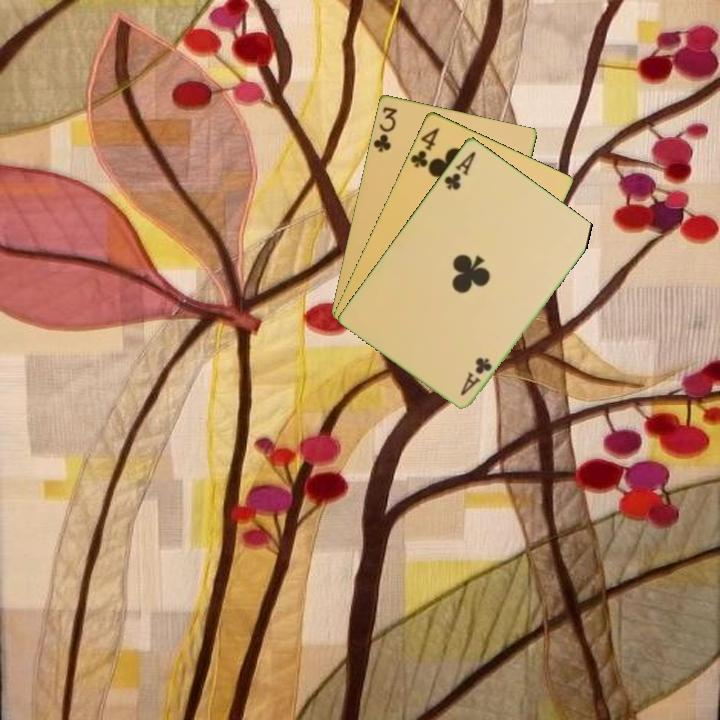3c: (370, 103, 400, 155)
4c: (407, 123, 442, 170)
Ac: (440, 147, 479, 193), (456, 353, 495, 398)
